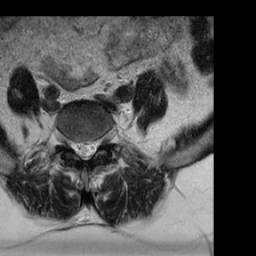CCS_normal: (81, 132, 89, 166)
LFS_normal: (97, 128, 103, 153)
LLS_normal: (89, 135, 97, 161)
RFS_normal: (66, 128, 73, 156)
RLS_normal: (73, 134, 81, 162)
